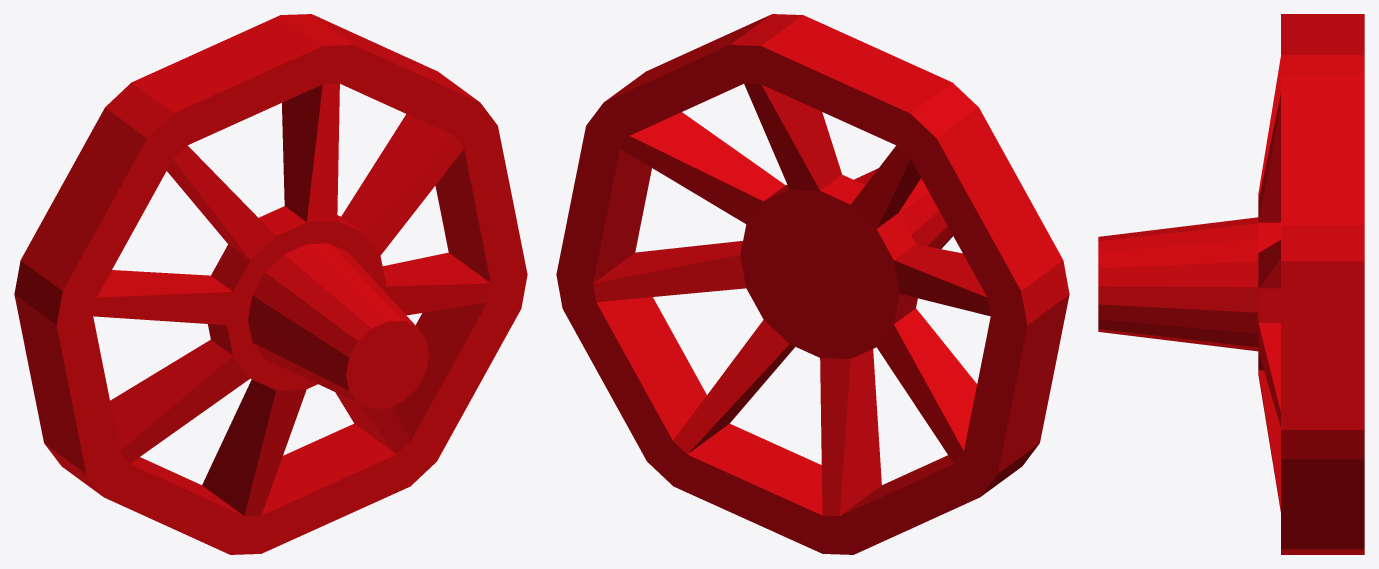
The model's file is manivela.fbx.
The picture shows the model from 3 angles, left to right: view 1: azimuth 30°, elevation 25°; view 2: azimuth 150°, elevation 25°; view 3: azimuth 270°, elevation 25°; orthographic projection.
Parts seen in each view (by area): view 1: Cylinder.002; view 2: Cylinder.002; view 3: Cylinder.002.
Part boxes in pixels (x1=…): Cylinder.002: x1=14, y1=14, x2=527, y2=554; Cylinder.002: x1=556, y1=14, x2=1069, y2=554; Cylinder.002: x1=1098, y1=14, x2=1364, y2=554.
Size of the model in its own units: 68.91 by 68.91 by 34.1.
